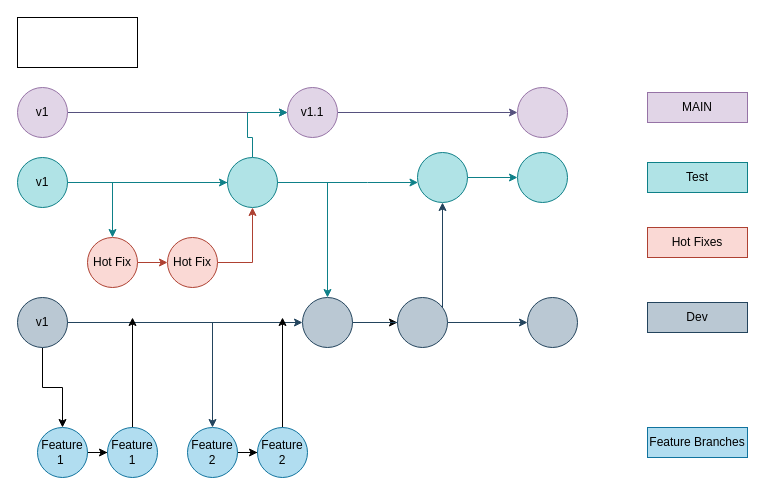
Image size: 765x495. Some labels were removed from this diagram. The box of each missing label's shape, as (x1, y1, x2, y2) in pixels:
Post Launch: (16, 16, 138, 68)
v3: (516, 86, 568, 138)
